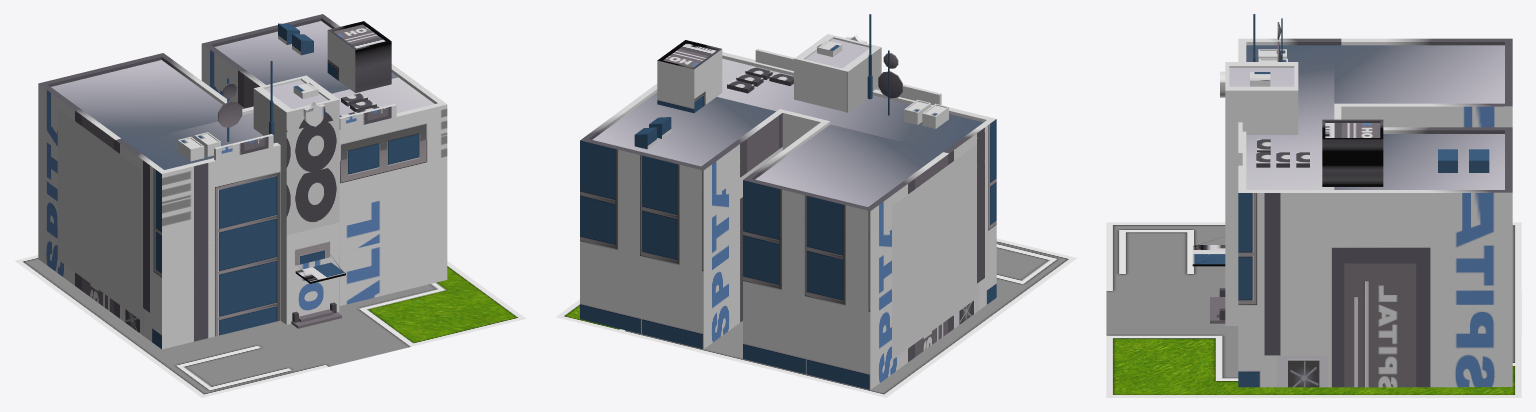
Rendered from Police_Lvl_5.fbx.
3 renders of one model, left to right at view 1: azimuth 30°, elevation 25°; view 2: azimuth 150°, elevation 25°; view 3: azimuth 270°, elevation 25°, orthographic. The views are drawn at different scales.
Parts seen in each view (by area): view 1: PoliceDept_Lvl_5, Police_BG, Graffiti_001; view 2: PoliceDept_Lvl_5, Graffiti_001, Police_BG; view 3: PoliceDept_Lvl_5, Police_BG.
Boxes of the visible parts, bbox=[...] form: PoliceDept_Lvl_5: bbox=[38, 14, 447, 349]; Police_BG: bbox=[14, 255, 526, 397]; Graffiti_001: bbox=[57, 109, 140, 319]; PoliceDept_Lvl_5: bbox=[580, 14, 996, 389]; Graffiti_001: bbox=[892, 144, 976, 359]; Police_BG: bbox=[556, 238, 1076, 397]; PoliceDept_Lvl_5: bbox=[1192, 14, 1512, 387]; Police_BG: bbox=[1106, 222, 1521, 397].
Size of the model in its own units: 2000 by 1498 by 2000.
